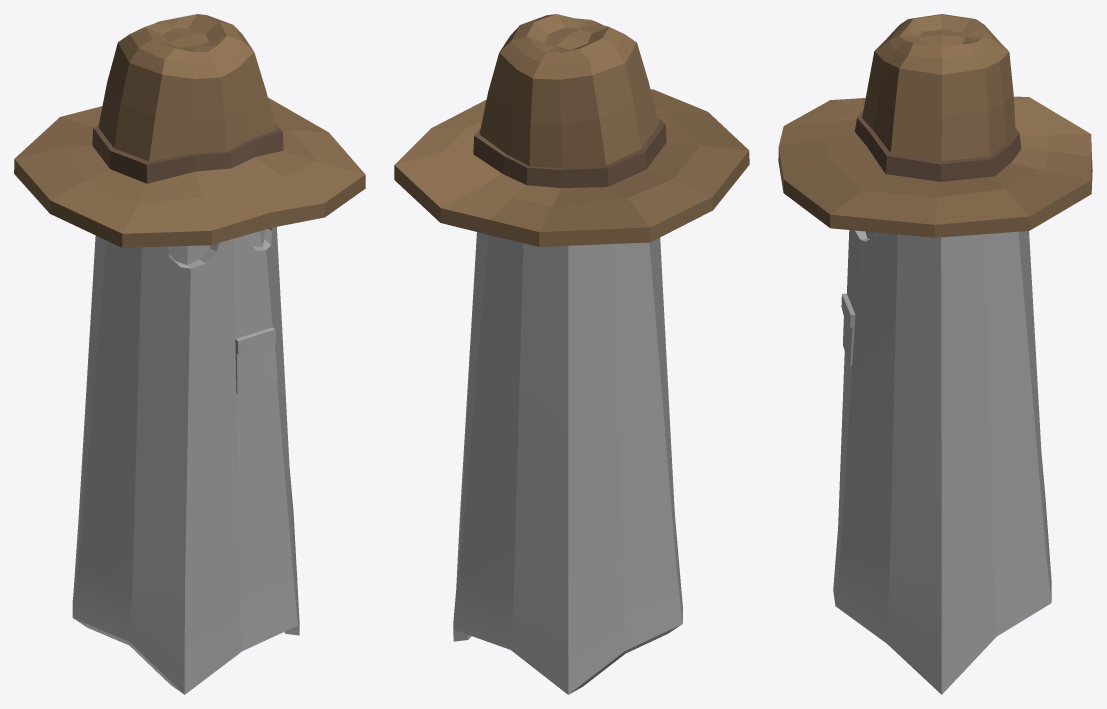
Rendered from muie.fbx.
The picture shows the model from 3 angles, left to right: view 1: azimuth 30°, elevation 25°; view 2: azimuth 150°, elevation 25°; view 3: azimuth 270°, elevation 25°; orthographic projection. The views are drawn at different scales.
Parts seen in each view (by area): view 1: pCylinder3; view 2: pCylinder3; view 3: pCylinder3.
Boxes of the visible parts, x1,y1,x2,y2 form: pCylinder3: (14, 14, 365, 694); pCylinder3: (394, 14, 749, 694); pCylinder3: (778, 14, 1092, 694).
Bounding box in the file's own units: 3.98 × 8.61 × 4.01.
